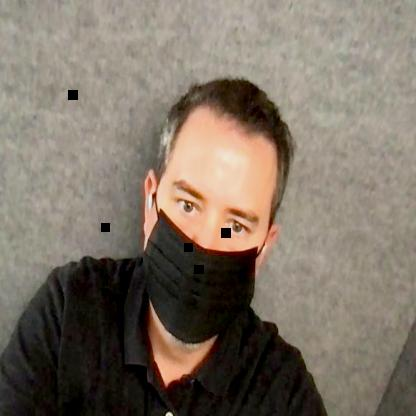mask: (137, 76, 295, 348)
